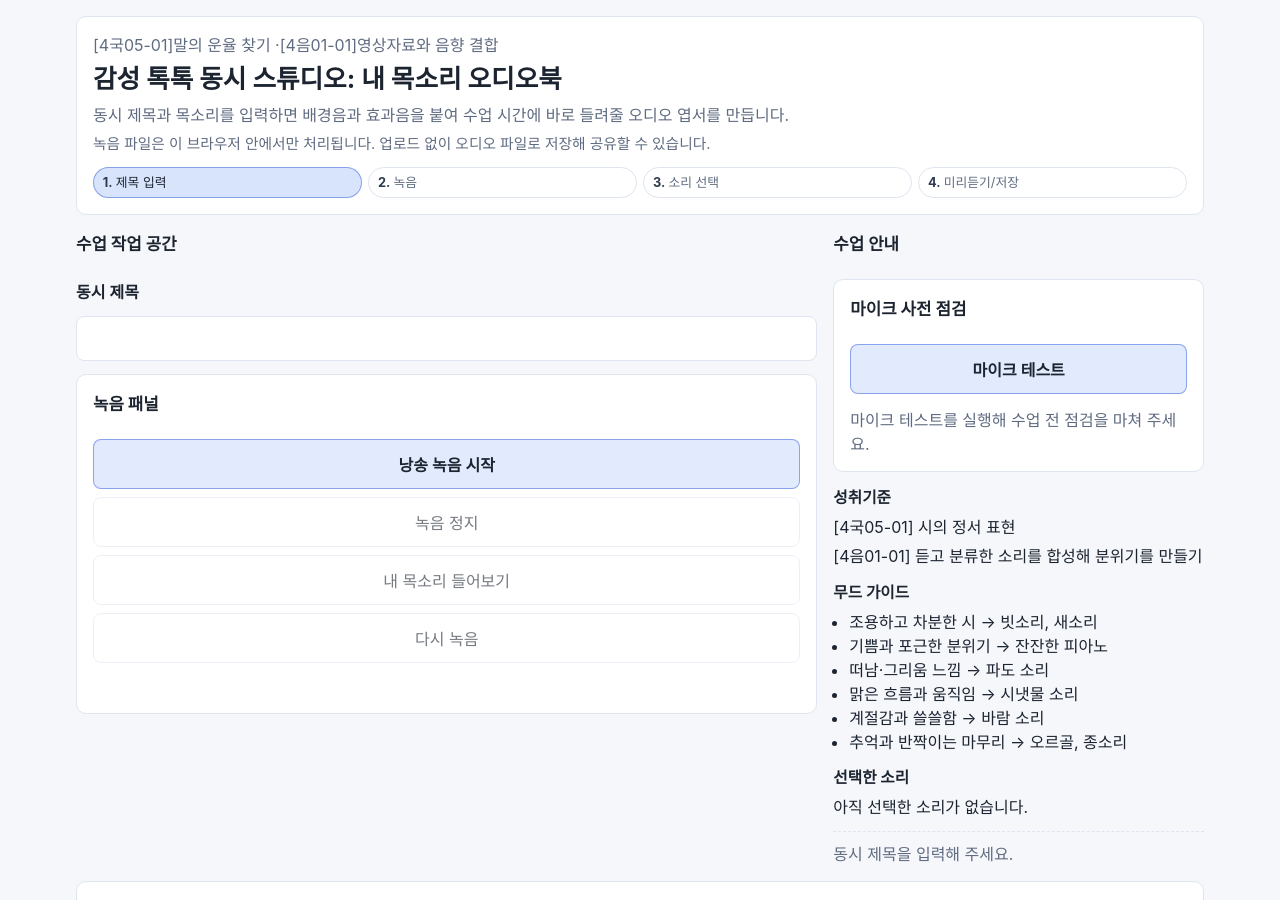
Scenario: Poetry & BGM Studio › blocks main recording start while microphone precheck is requesting
Step 1. Click the button "마이크 테스트" → (1019, 369), box [850,344,1187,394]
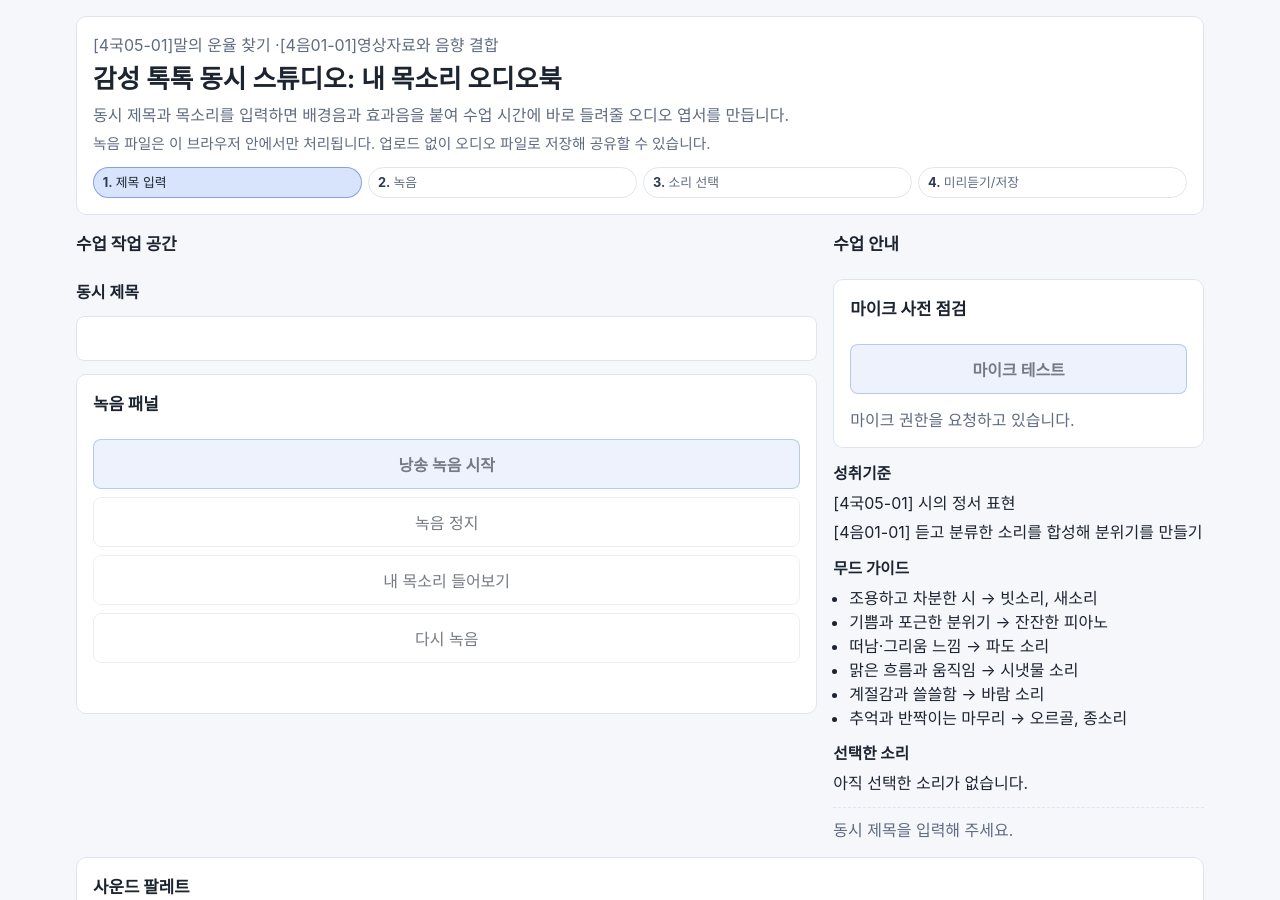
Expected: the button "낭송 녹음 시작" is disabled, [93,439,800,489]
